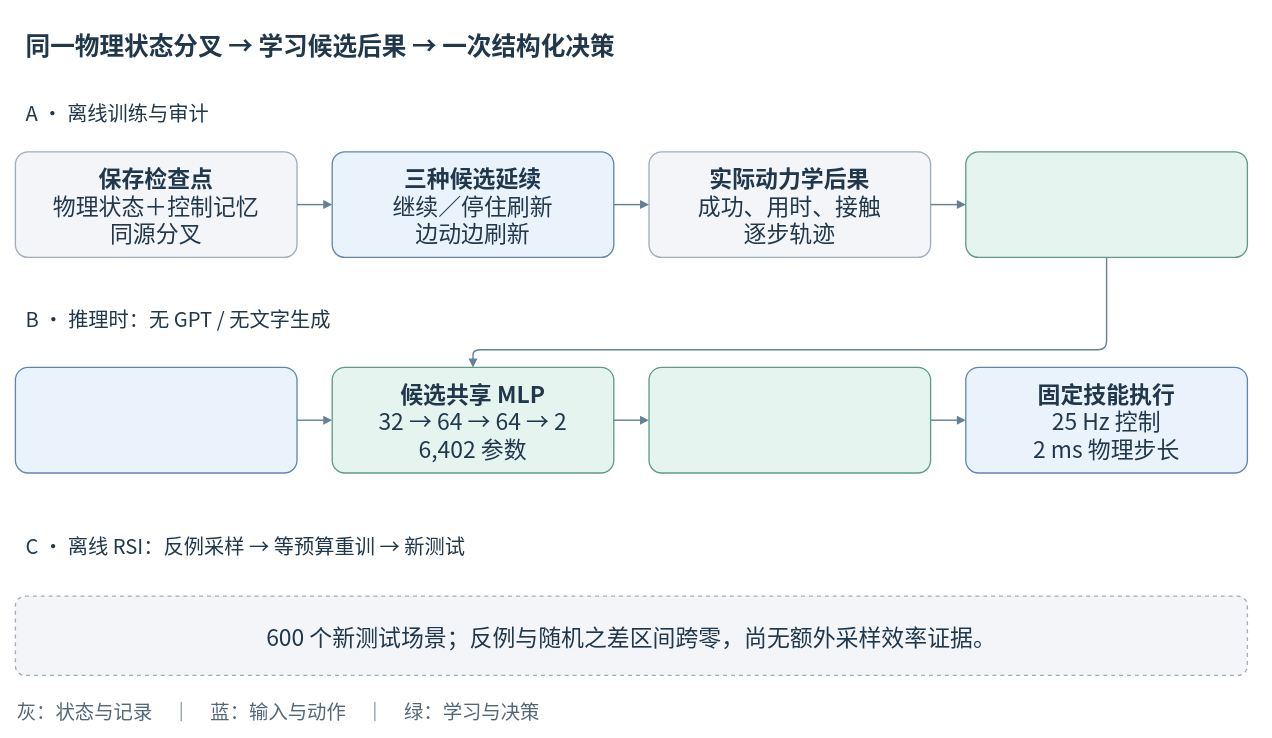
Image size: 1272x738. Some labels were removed from this diagram. The centre of each missing label's shape, as x and y in pixels:
29 维上下文 旧观测／目标／阶段 时效与动作历史: point 155,419
训练与冻结 BCE ＋ MSE 仅验证集选模: point 1106,204
预测后果并选择 成功率 p，用时 T min [1 − p + λT]: point 789,419
